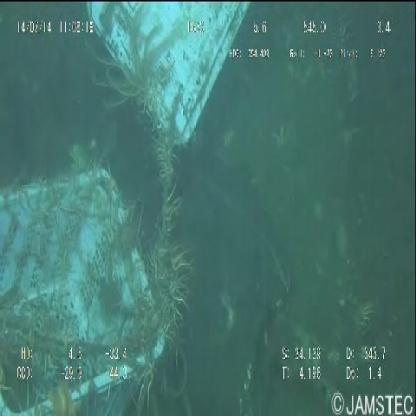Rác: (1, 1, 260, 412)
